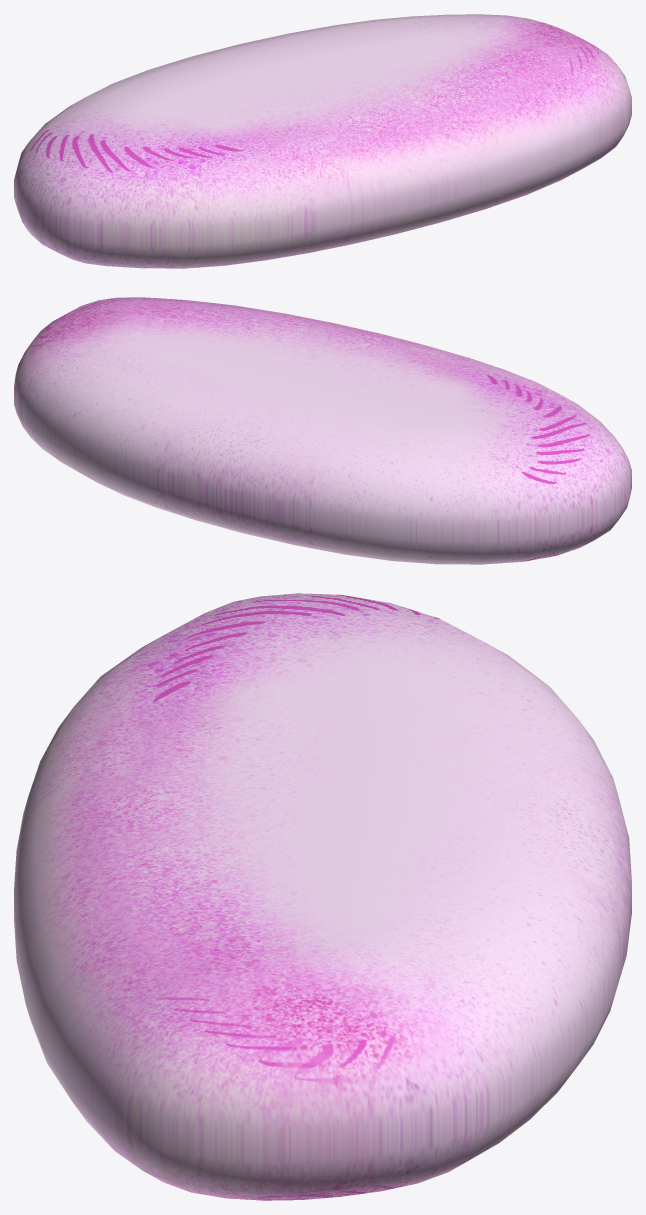
The model's file is Cloud_Maru_01.obj.
The picture shows the model from 3 angles, top to bottom: view 1: azimuth 30°, elevation 25°; view 2: azimuth 150°, elevation 25°; view 3: azimuth 270°, elevation 25°; orthographic projection. The views are drawn at different scales.
Visible parts, largest first — view 1: Cloud_Maru_01; view 2: Cloud_Maru_01; view 3: Cloud_Maru_01.
Part boxes in pixels (bbox=[...]): Cloud_Maru_01: bbox=[14, 14, 631, 268]; Cloud_Maru_01: bbox=[14, 297, 631, 564]; Cloud_Maru_01: bbox=[14, 593, 631, 1200].
Size of the model in its own units: 0.6667 by 0.1279 by 0.3499.
1 material, 1 textured.
